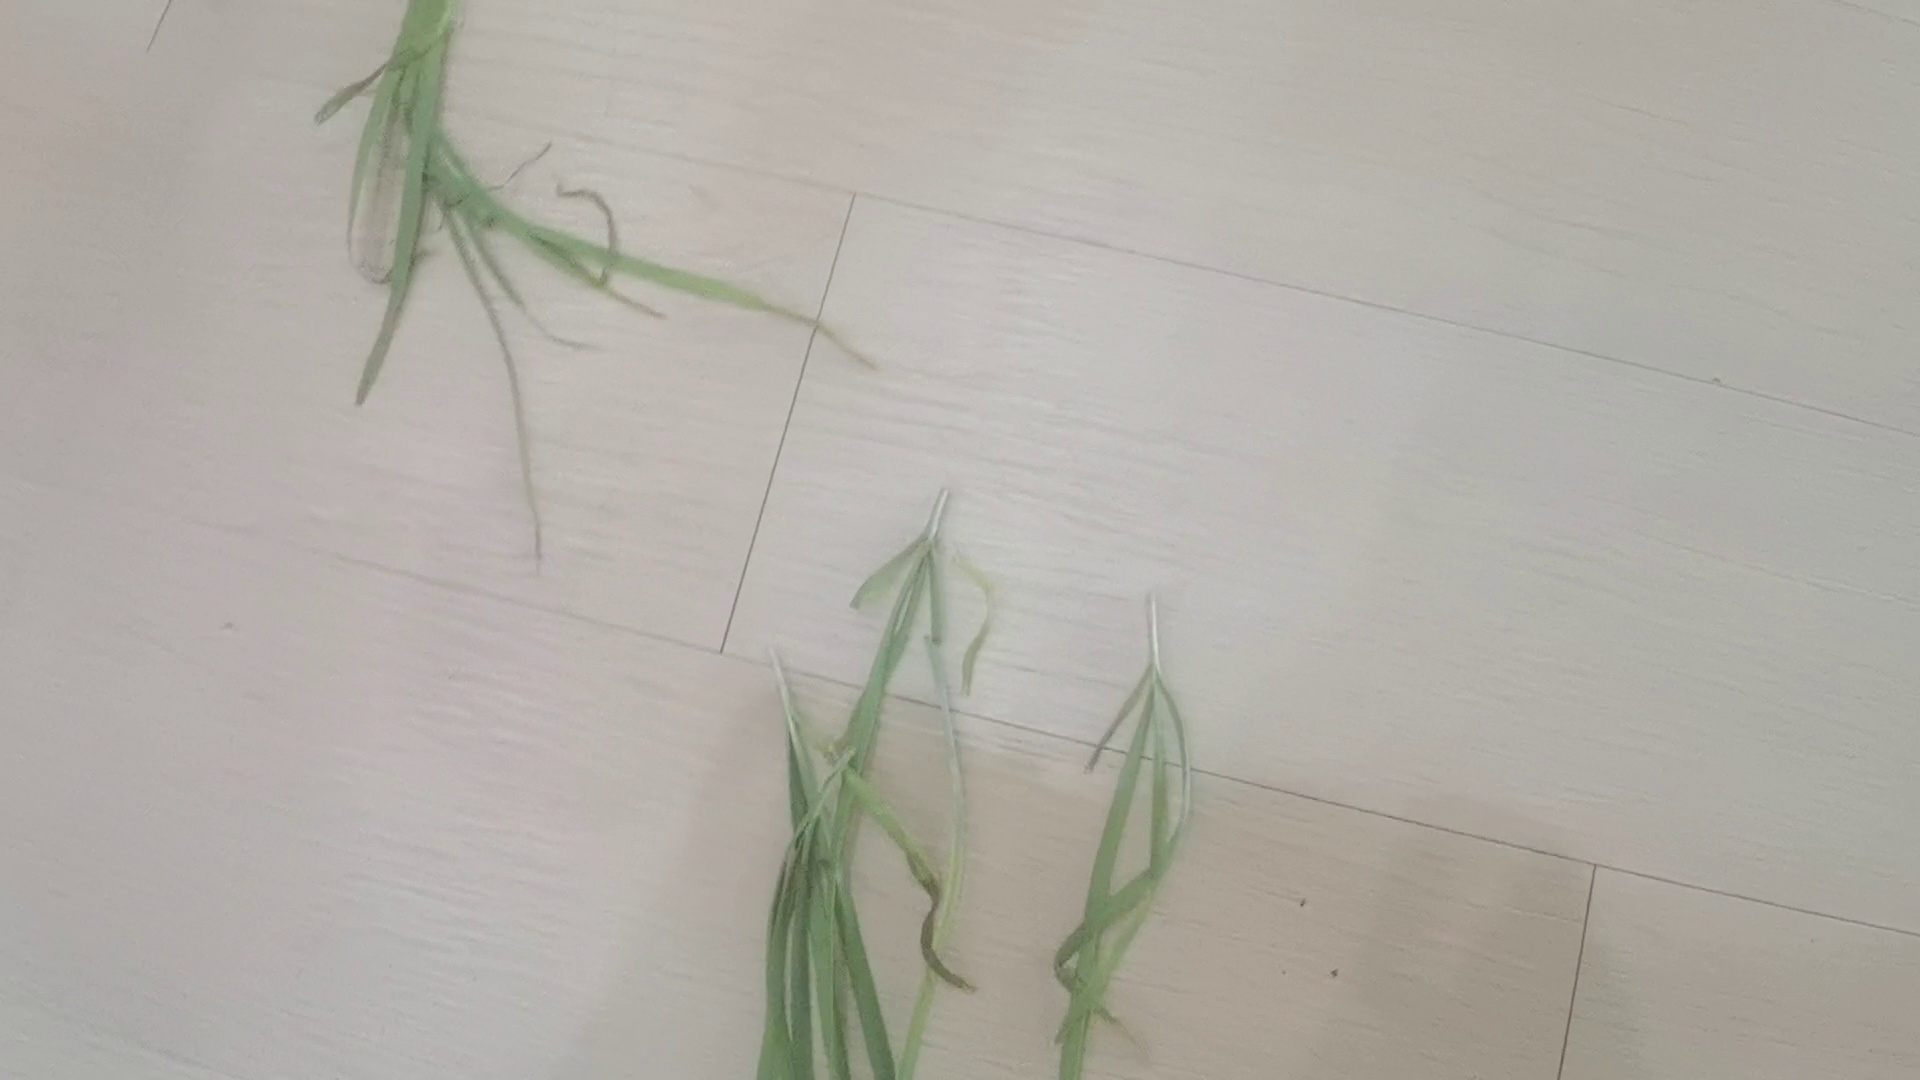chives: (316, 1, 906, 429), (1034, 584, 1207, 1080)
